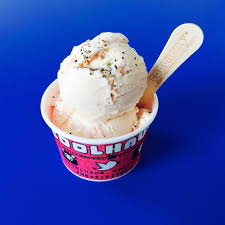ice-cream: (56, 32, 145, 108), (55, 96, 148, 138)
